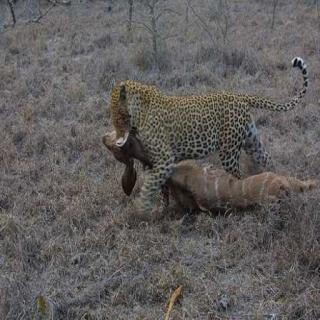Leopard: (82, 75, 320, 176)
